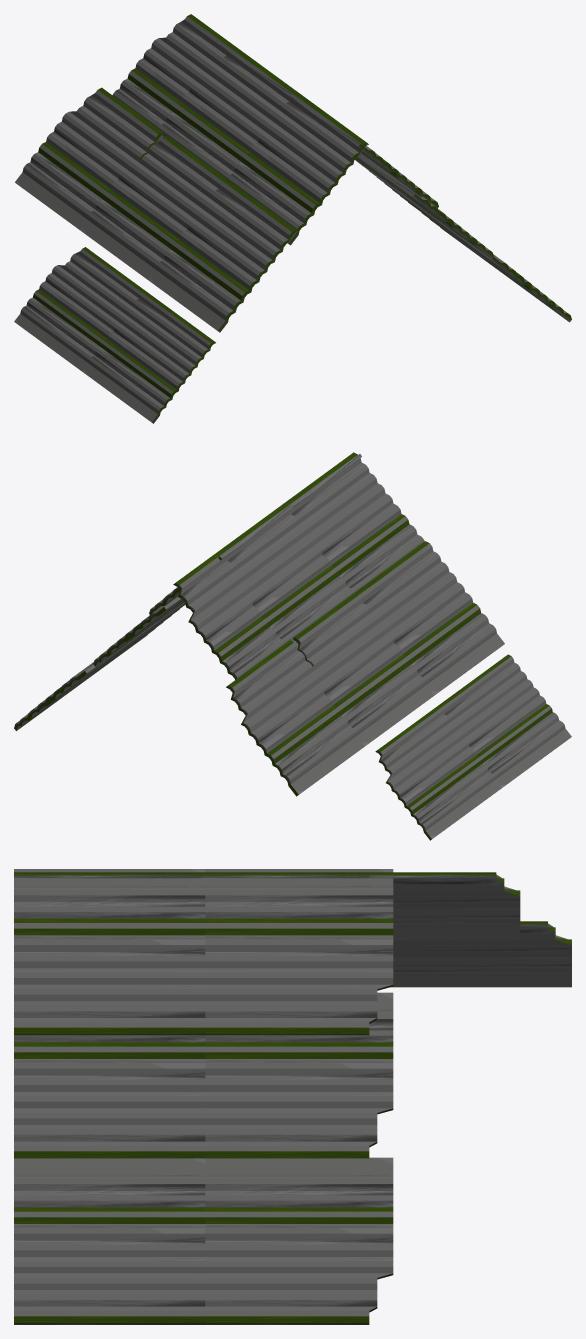
File: Model_Broken_House_Roof_3.fbx
3 renders of one model, top to bottom at view 1: azimuth 30°, elevation 25°; view 2: azimuth 150°, elevation 25°; view 3: azimuth 270°, elevation 25°, orthographic. The views are drawn at different scales.
Parts seen in each view (by area): view 1: 立方体.026; view 2: 立方体.026; view 3: 立方体.026.
Part boxes in pixels (x1,y1,x2,y2): 立方体.026: (14, 14, 571, 423); 立方体.026: (14, 452, 571, 840); 立方体.026: (14, 869, 571, 1324).
Bounding box in the file's own units: 881 × 460 × 738.
